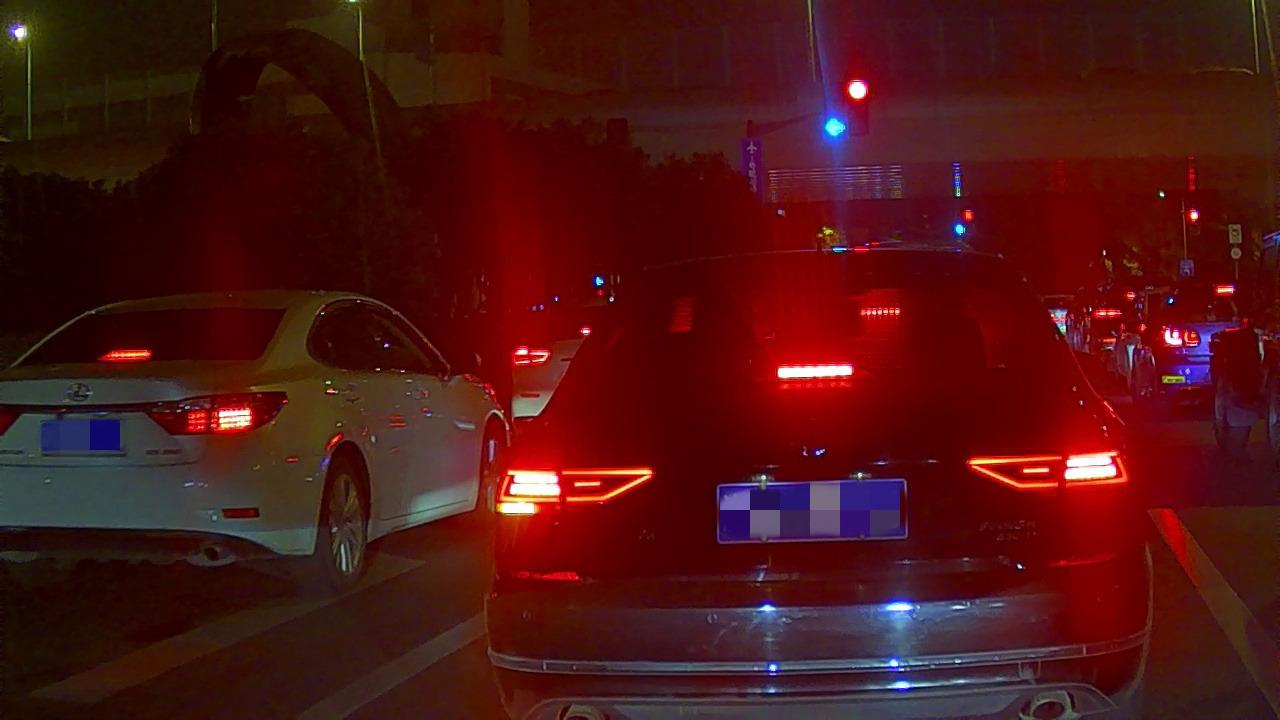traffic_light: (822, 120, 847, 137), (850, 80, 866, 97)
